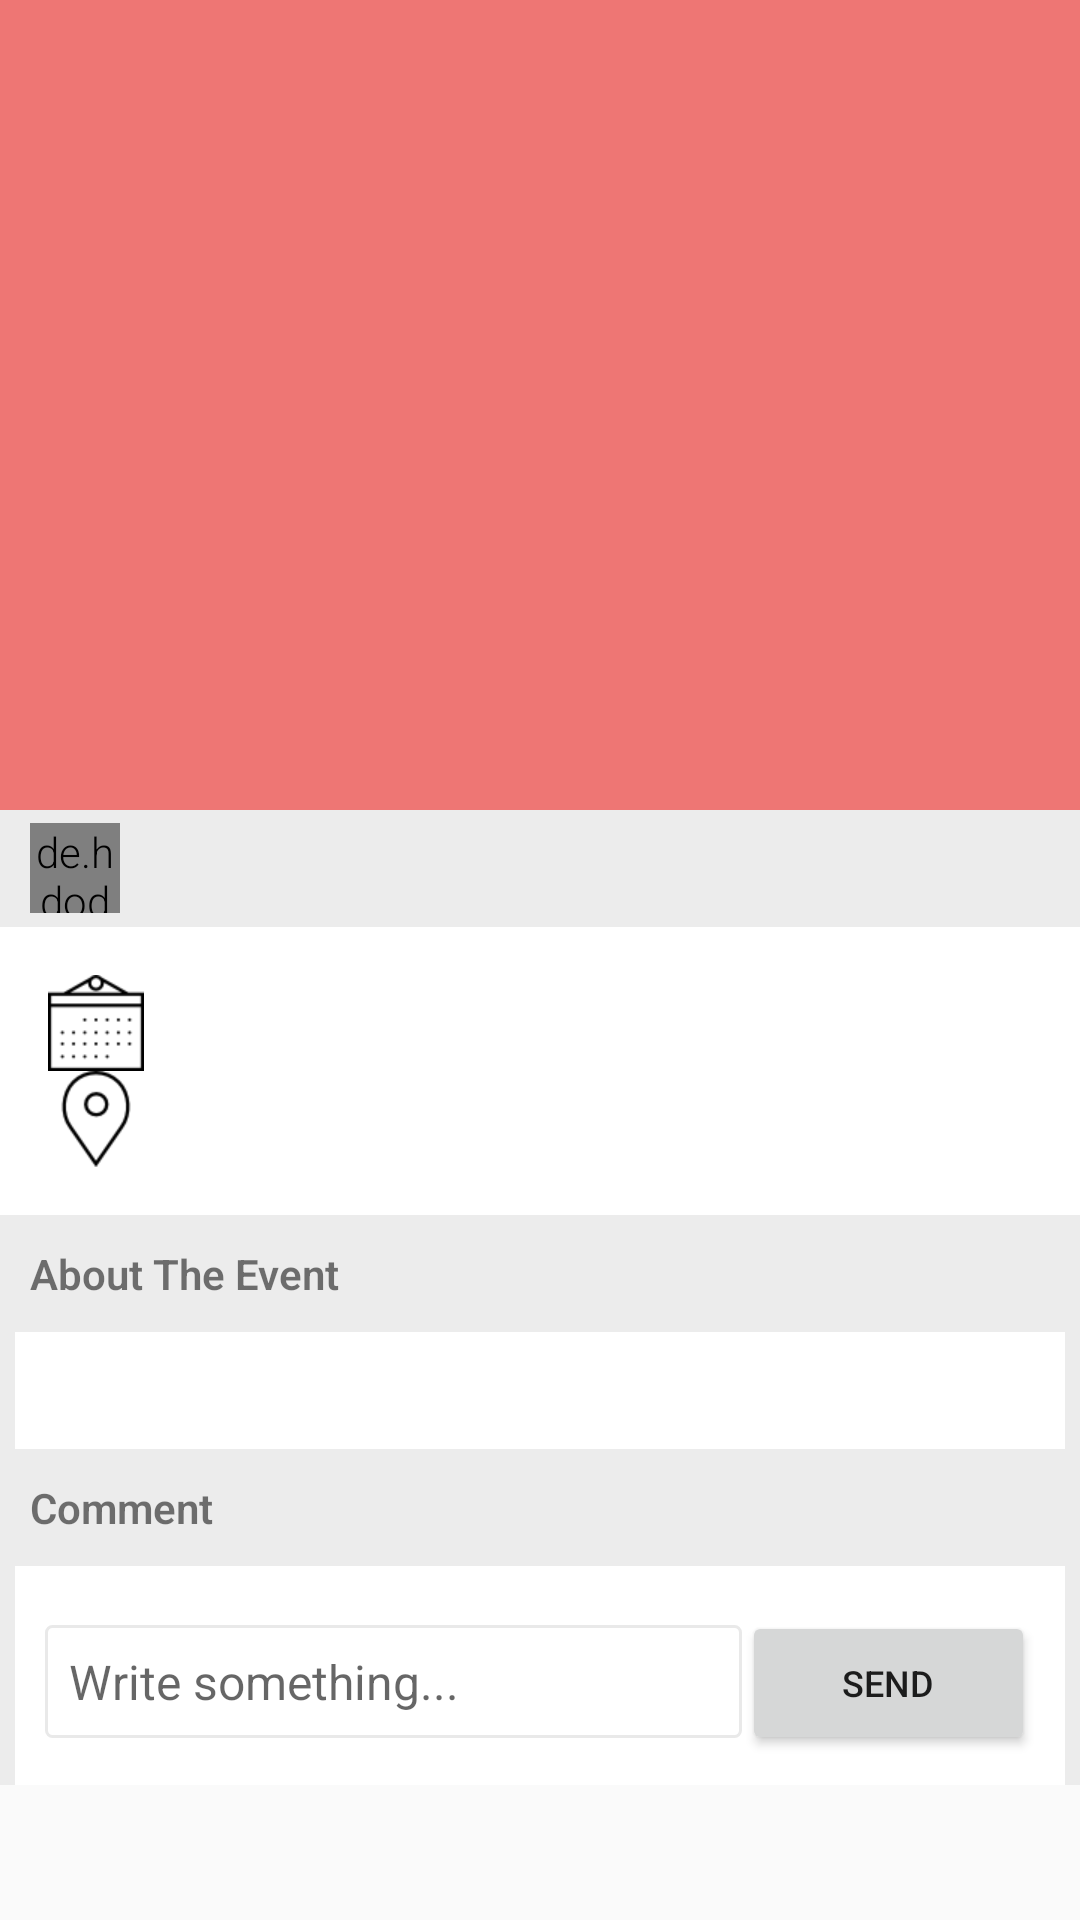

Icons on this 1080*1920 Android screen, each with its box as (x1, y1, x2, y2):
cal: (48, 975, 144, 1071)
place: (61, 1071, 131, 1167)
